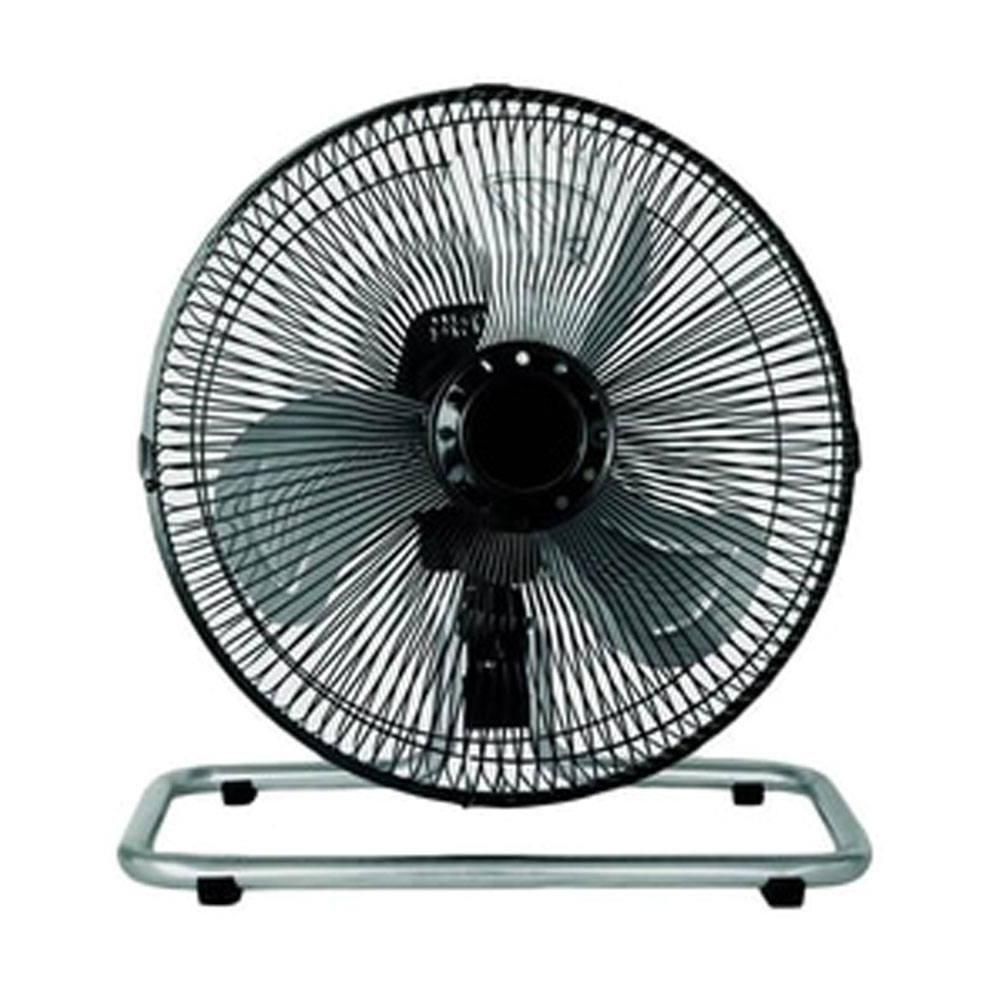fan: (108, 61, 906, 971)
